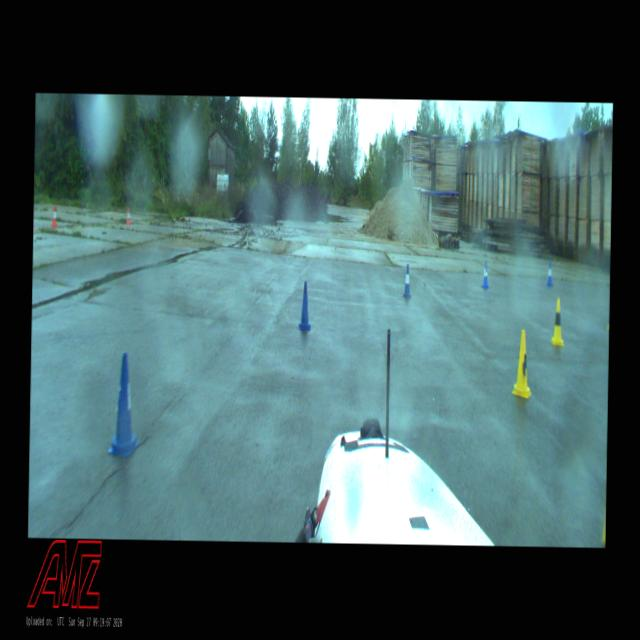blue_cone: (107, 352, 141, 457), (298, 280, 312, 330), (402, 264, 411, 298), (481, 260, 489, 288), (546, 260, 552, 286)
orange_cone: (52, 205, 58, 228), (126, 207, 131, 225)
yellow_cone: (512, 329, 532, 398), (550, 298, 565, 346)
